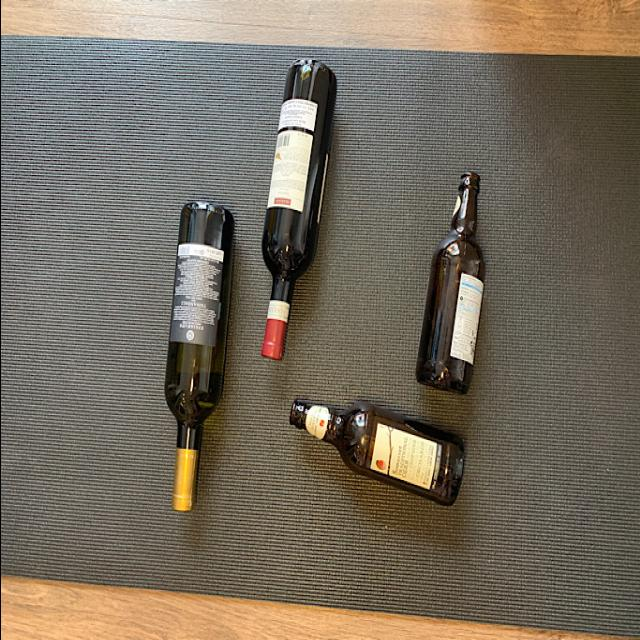litter: (159, 198, 237, 522), (260, 51, 336, 369), (284, 392, 463, 512), (416, 165, 486, 393)
